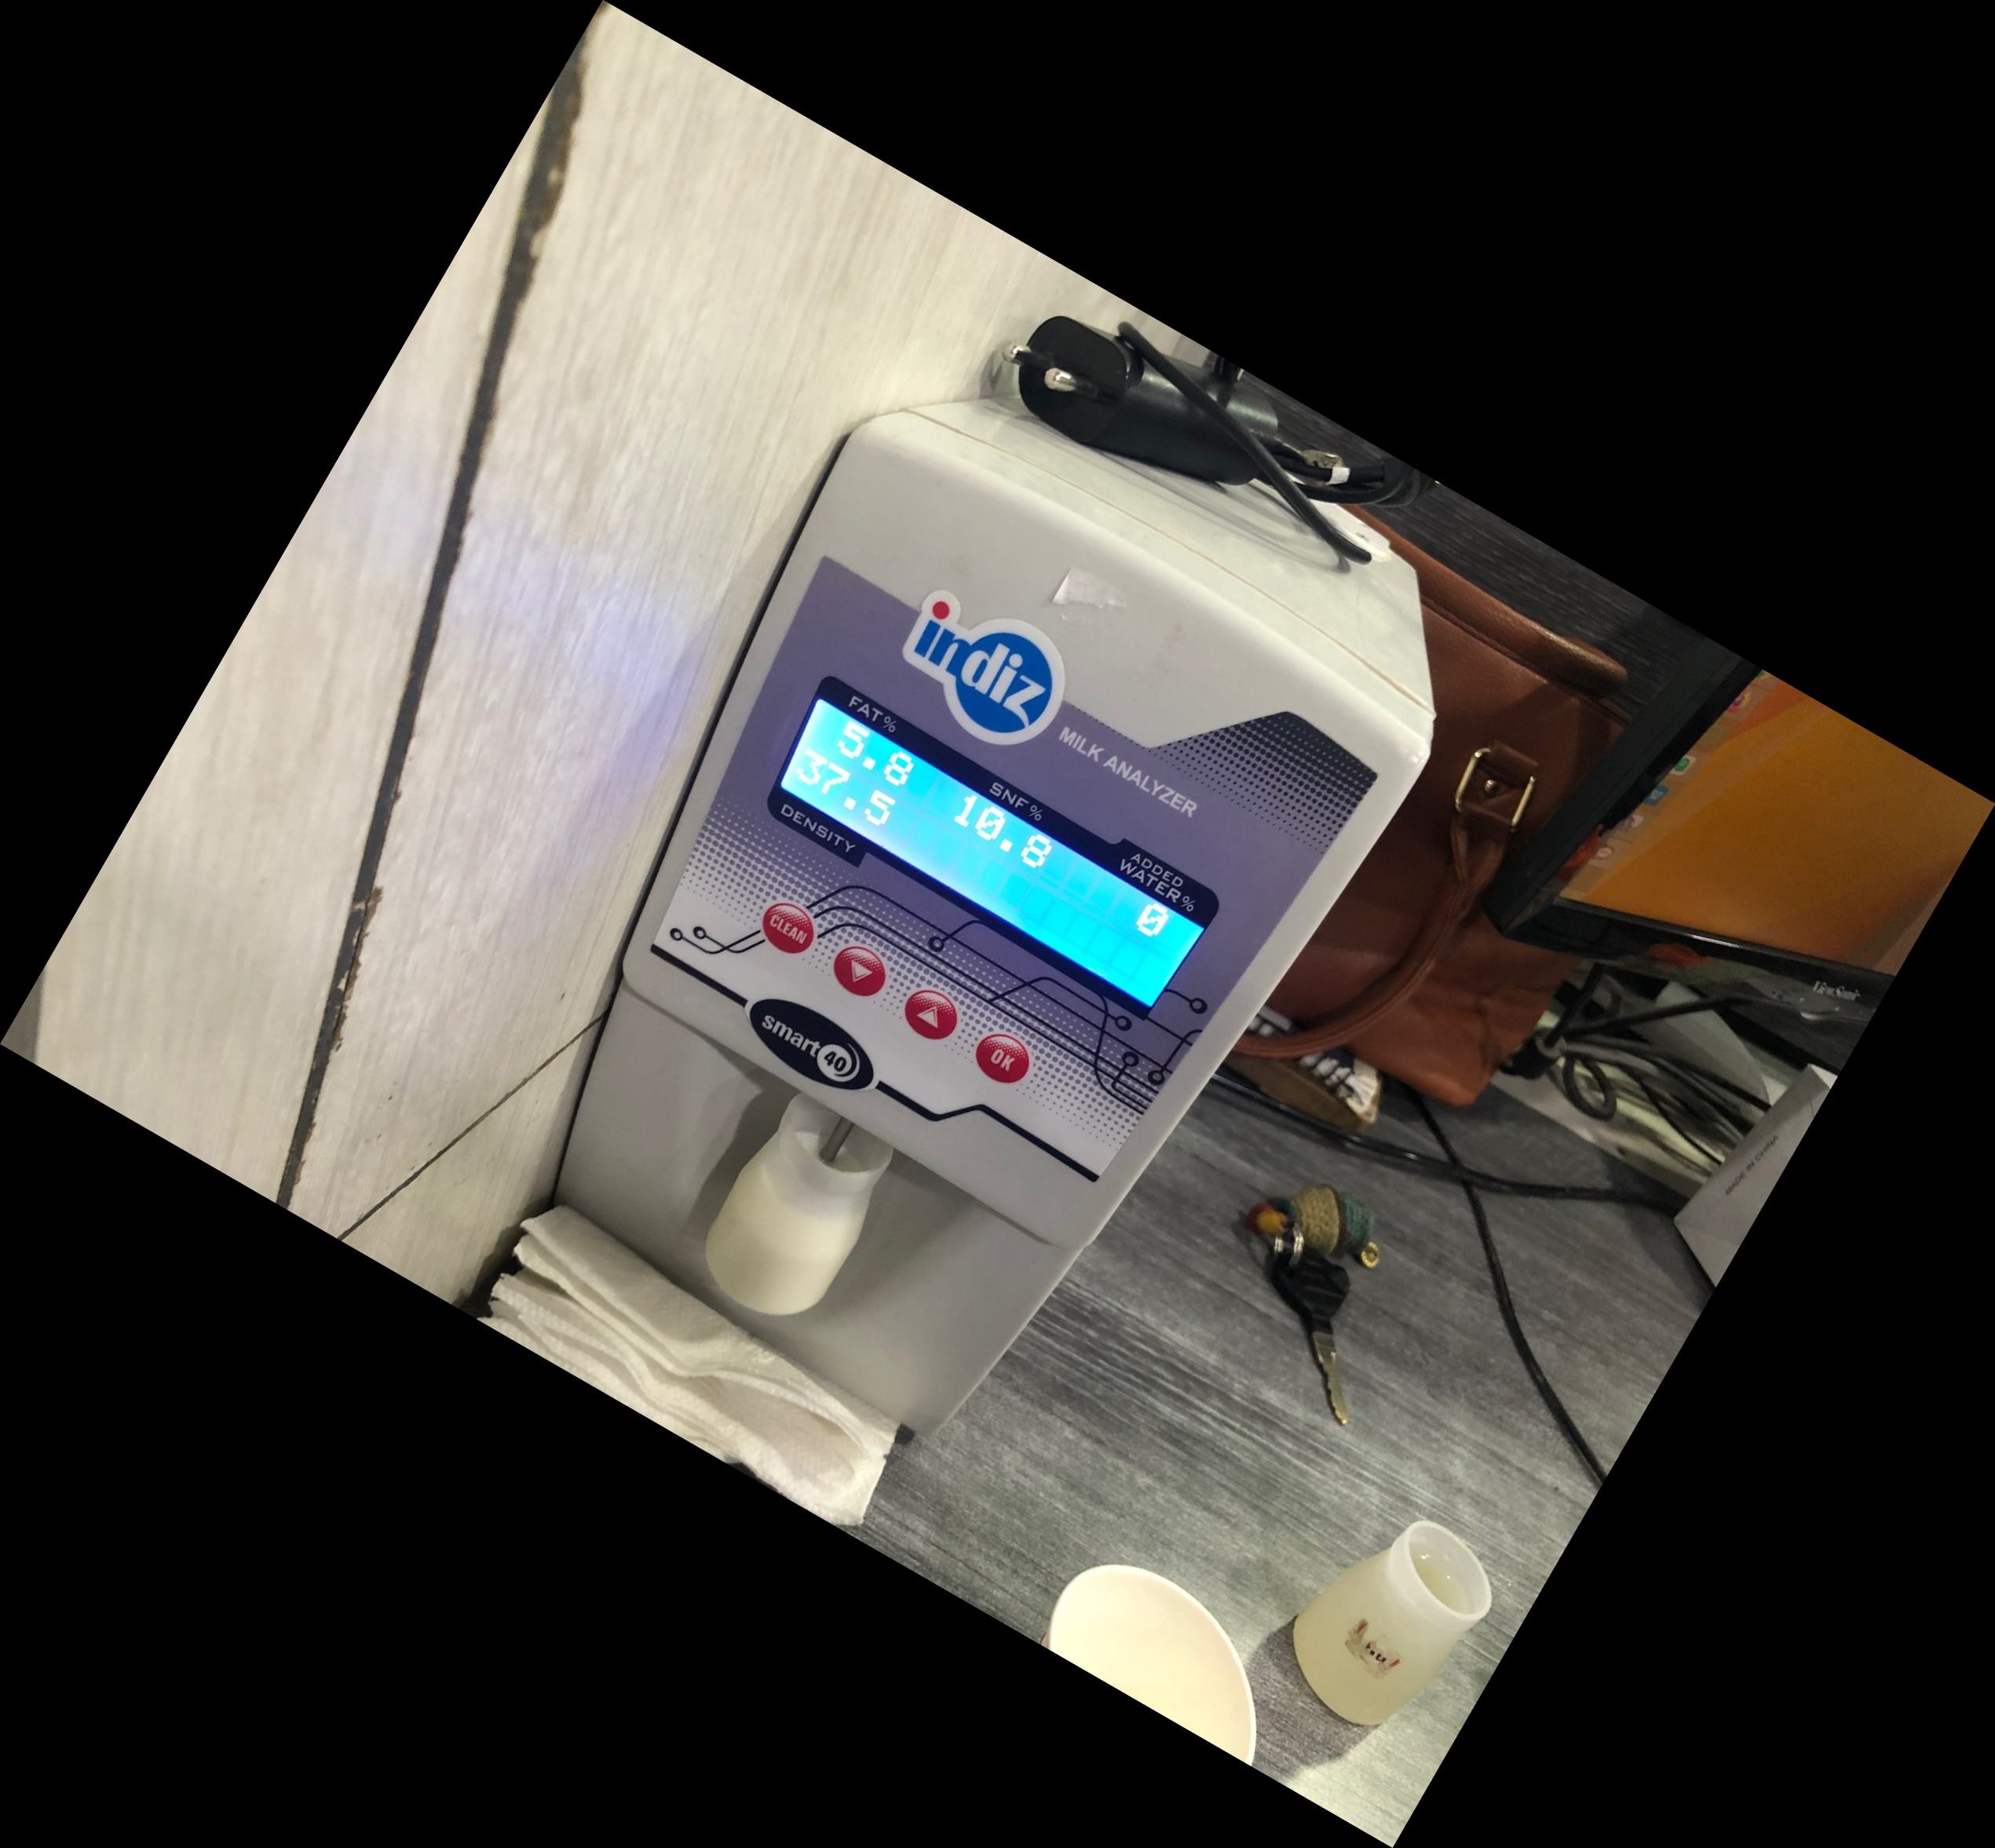lcd: (758, 683, 1229, 1040)
